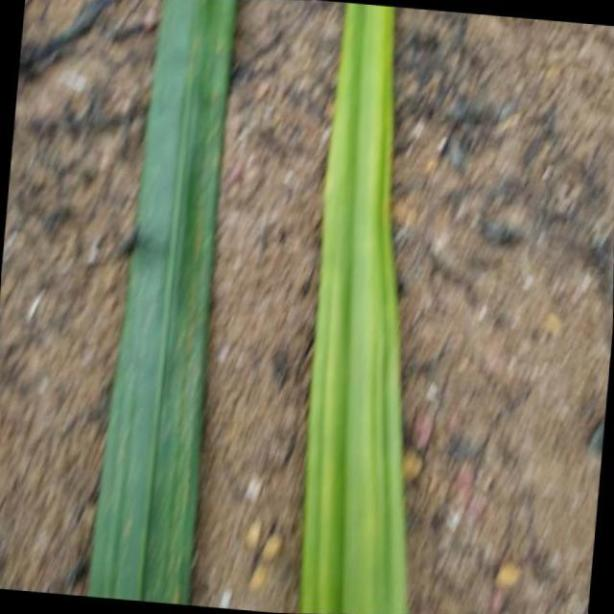nitrogen: (291, 0, 411, 614)
